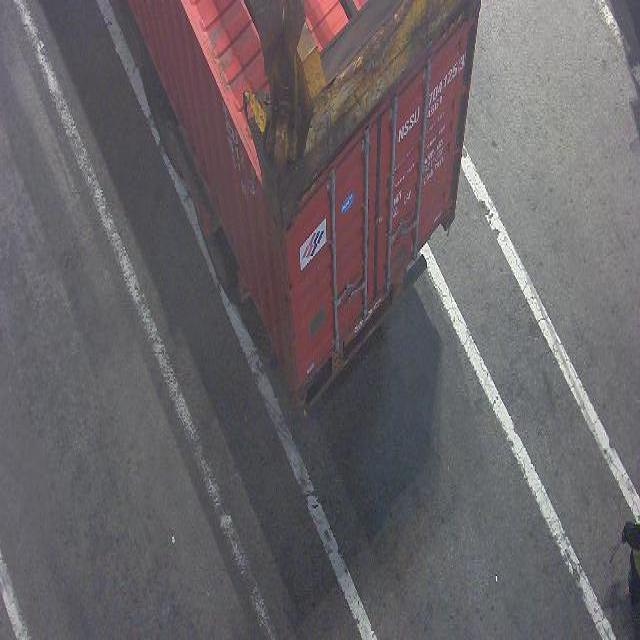ISO: (429, 96, 444, 123)
container_number: (398, 47, 470, 144)
